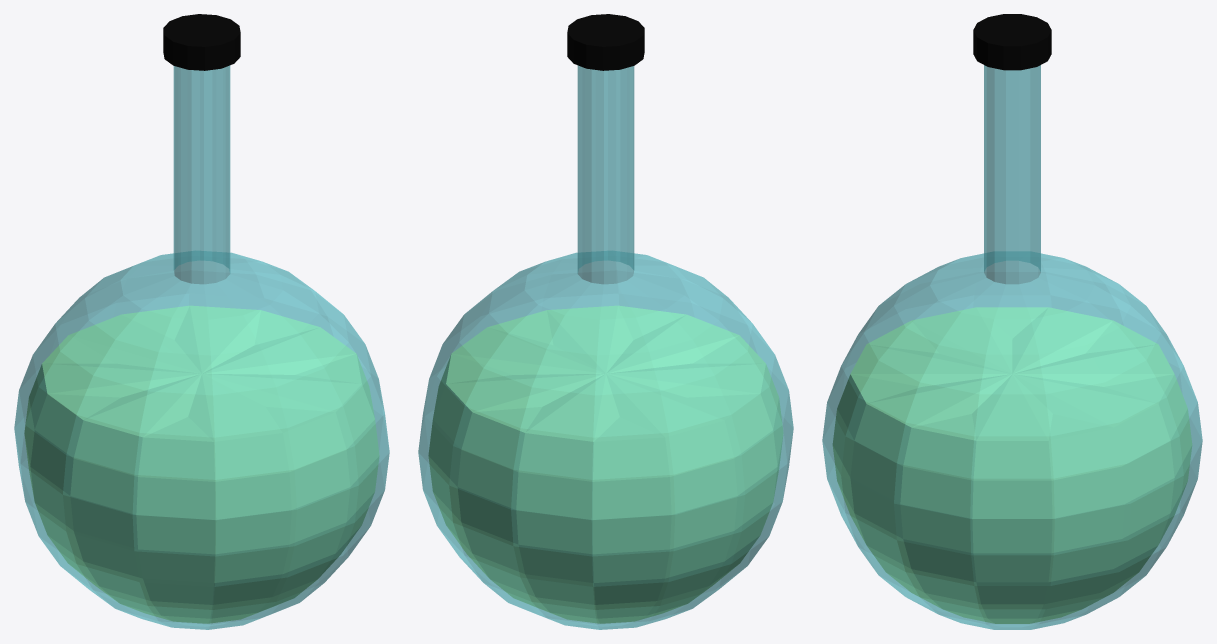
The model's file is AcidBottle.fbx.
The picture shows the model from 3 angles, left to right: view 1: azimuth 30°, elevation 25°; view 2: azimuth 150°, elevation 25°; view 3: azimuth 270°, elevation 25°; orthographic projection.
Visible parts, largest first — view 1: AcidBottle; view 2: AcidBottle; view 3: AcidBottle.
Part boxes in pixels (<box>): AcidBottle: <box>14,14,389,629</box>; AcidBottle: <box>418,14,793,629</box>; AcidBottle: <box>822,14,1202,629</box>.
Bounding box in the file's own units: 0.539 × 0.5529 × 0.9294.
